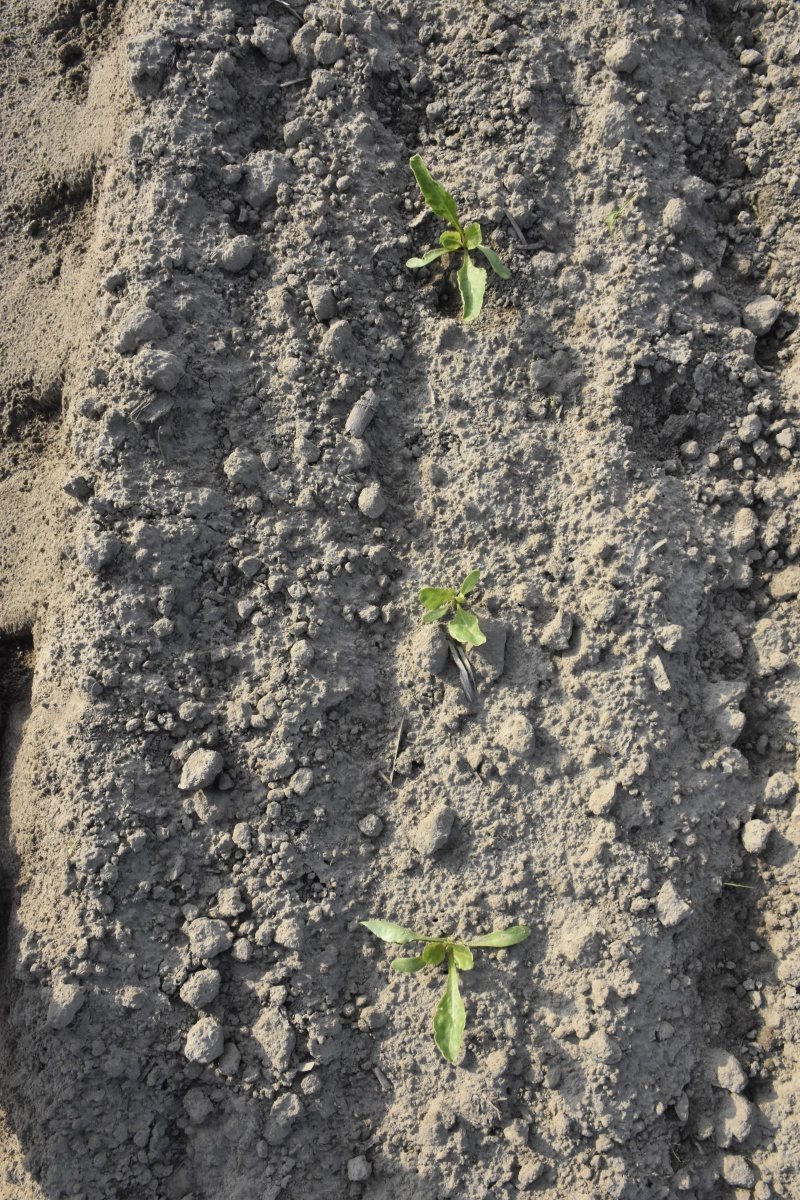sugar beet: (354, 911, 536, 1078), (384, 145, 514, 331), (416, 565, 493, 655)
